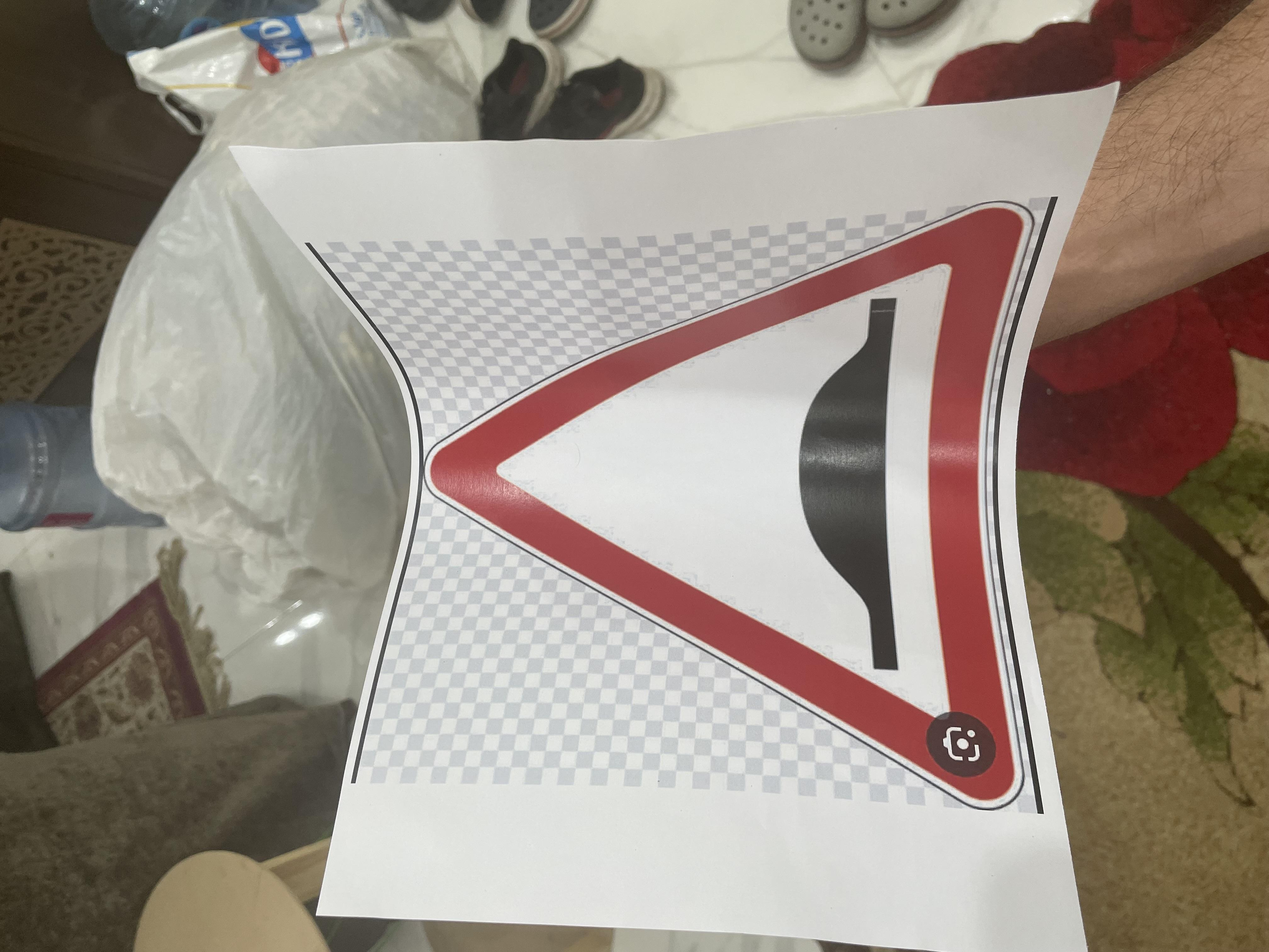Hump: (194, 300, 1016, 776)
